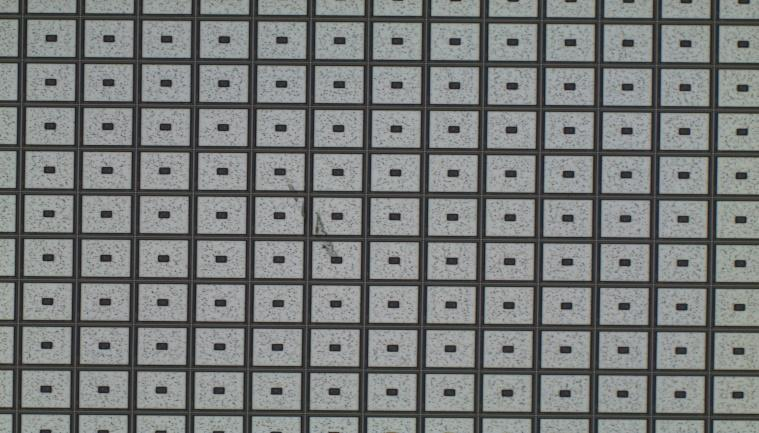SCRATCH: (281, 178, 349, 266)
